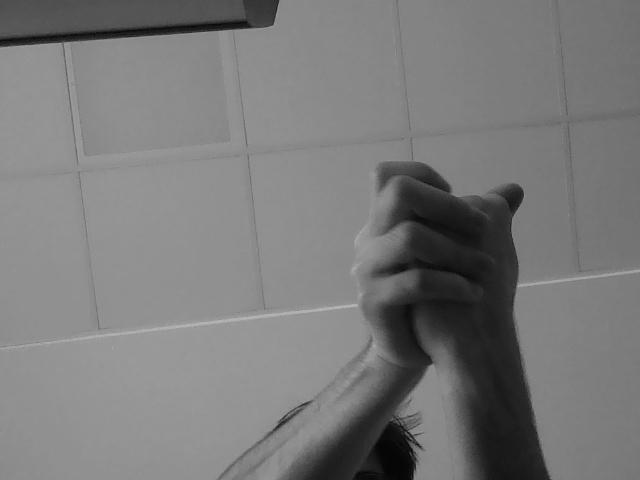friend: (344, 148, 536, 363)
